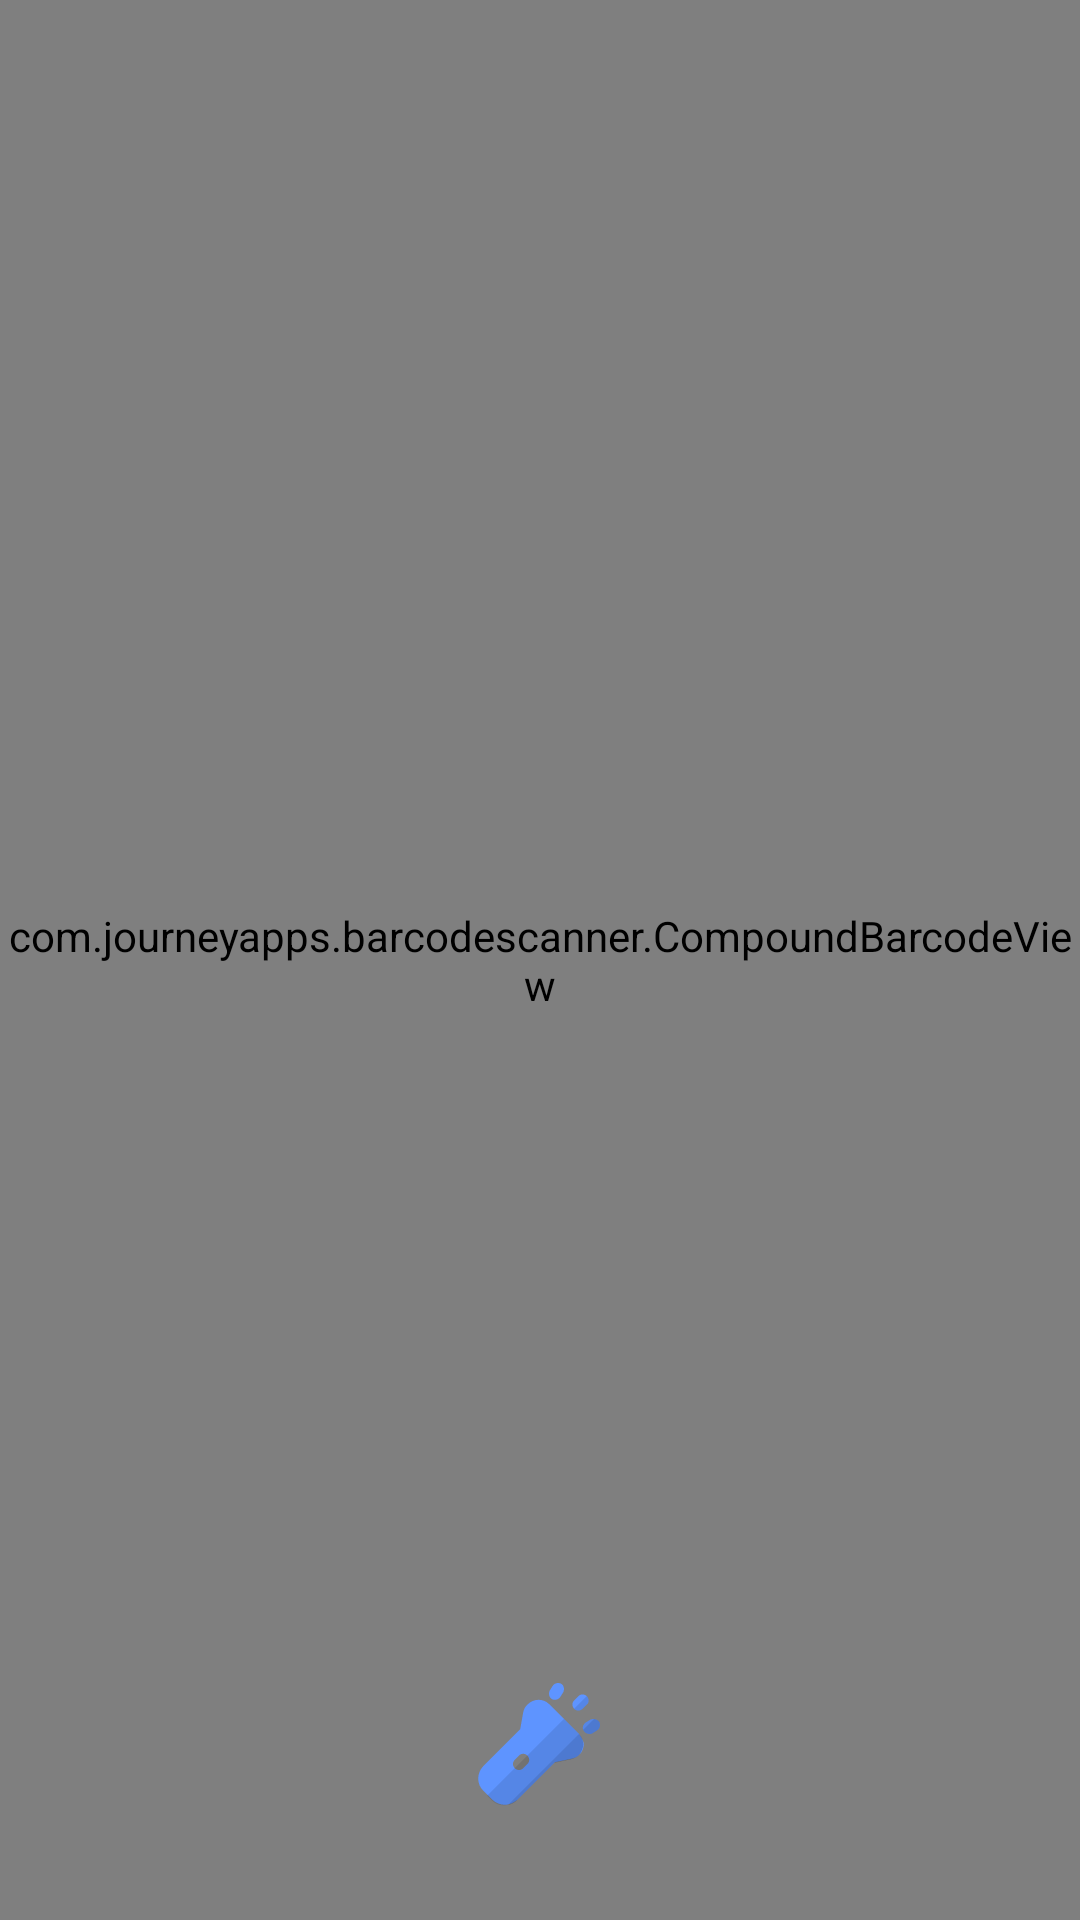

Point at icon controls on the screen. Image size 1080×1920, points as (x=x, y=y).
flash on: (x=539, y=1744)
